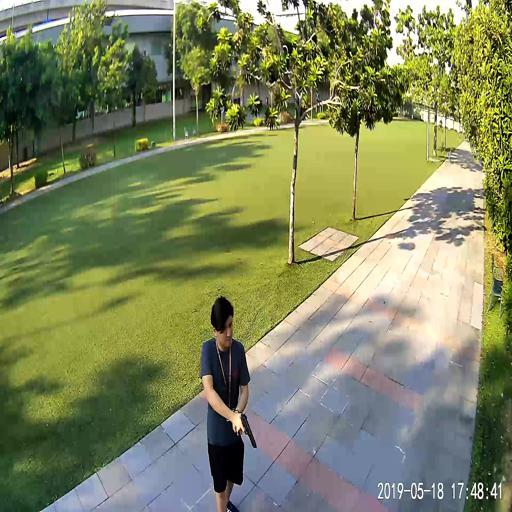Handgun: (238, 411, 256, 449)
